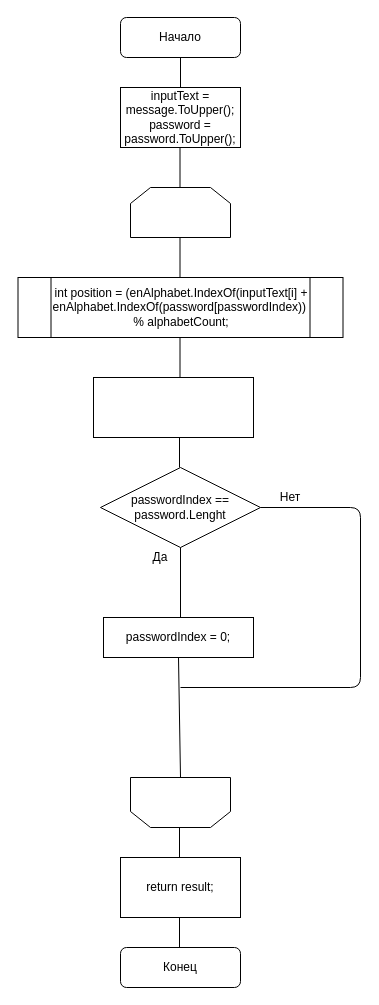
Image size: 379x1005. Some labels were removed from this diagram. The shapes that lost their labels are listed below. From the top down, each one's box as (x1, y1, x2, y2) in pixels, then its label:
(130, 186, 230, 238): i=0;
(92, 376, 254, 438): result+=enAlphabet[position]; passwordIndex++;
(130, 776, 230, 828): i < message.Lenght; i++;
